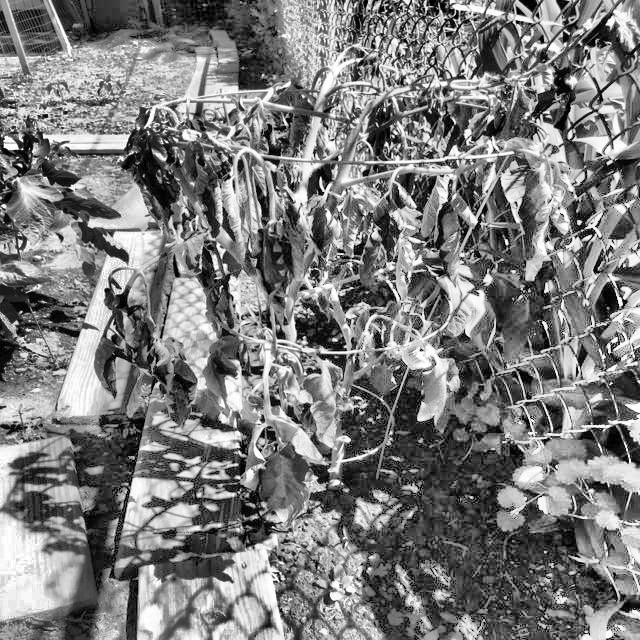plants: (114, 57, 577, 536), (212, 275, 424, 521), (110, 84, 292, 262)
